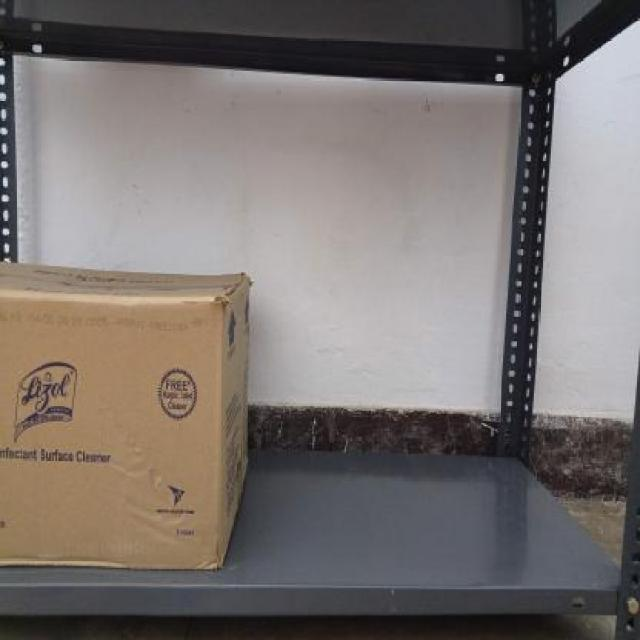box: (0, 290, 225, 570)
